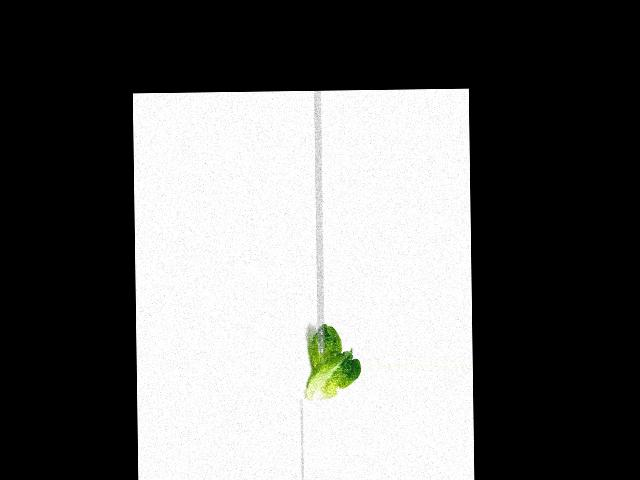lettuce: (307, 321, 361, 403)
